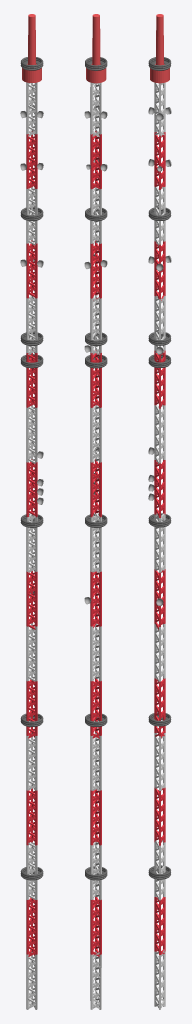
The model's file is masto_325m_LOD01.gltf.
The picture shows the model from 3 angles, left to right: view 1: azimuth 90°, elevation 25°; view 2: azimuth 210°, elevation 25°; view 3: azimuth 270°, elevation 25°; orthographic projection.
Parts seen in each view (by area): view 1: masto_325.001; view 2: masto_325.001; view 3: masto_325.001.
Boxes of the visible parts, x1,y1,x2,y2 form: masto_325.001: [20, 14, 43, 1009]; masto_325.001: [84, 14, 107, 1009]; masto_325.001: [148, 14, 171, 1009].
Size of the model in its own units: 6.57 by 319 by 6.7.
